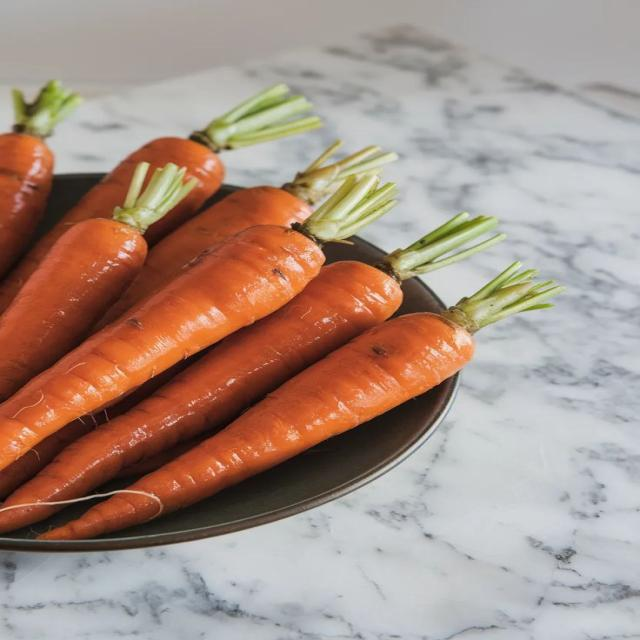carrot: (0, 214, 504, 530), (40, 265, 562, 539), (0, 177, 395, 469), (0, 85, 321, 311), (97, 141, 397, 328), (0, 163, 195, 401), (0, 355, 199, 499), (0, 81, 80, 276), (114, 433, 210, 479)
